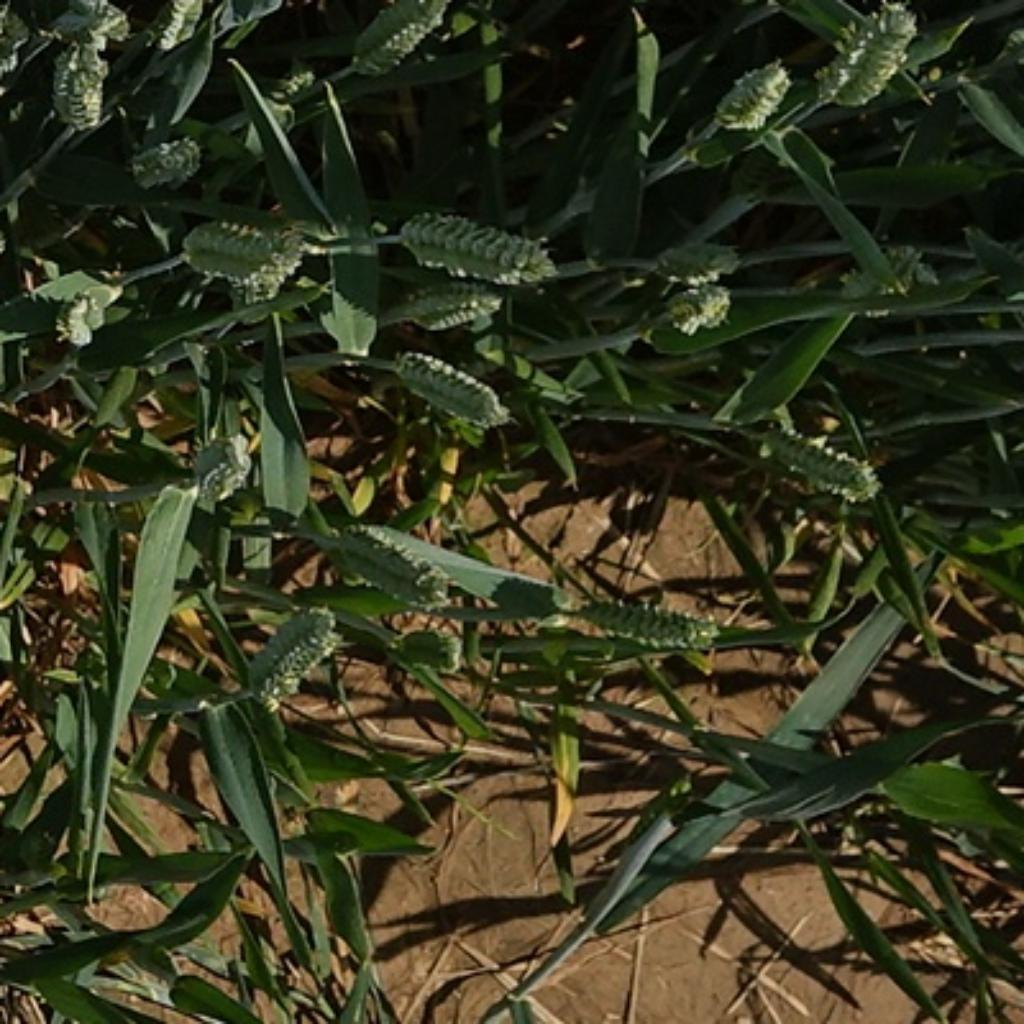0-0: (381, 194, 565, 289), (171, 202, 322, 302), (806, 0, 926, 112), (238, 591, 343, 701), (323, 519, 460, 601), (560, 583, 721, 652), (754, 418, 883, 504), (385, 347, 514, 431), (706, 46, 801, 138), (345, 0, 455, 76), (389, 276, 512, 341), (837, 246, 940, 320), (182, 419, 264, 511), (40, 28, 112, 128), (117, 125, 209, 192), (135, 0, 215, 76), (48, 279, 122, 348), (655, 276, 737, 335), (650, 232, 732, 291), (0, 0, 48, 87), (250, 61, 327, 115), (56, 0, 135, 40)
